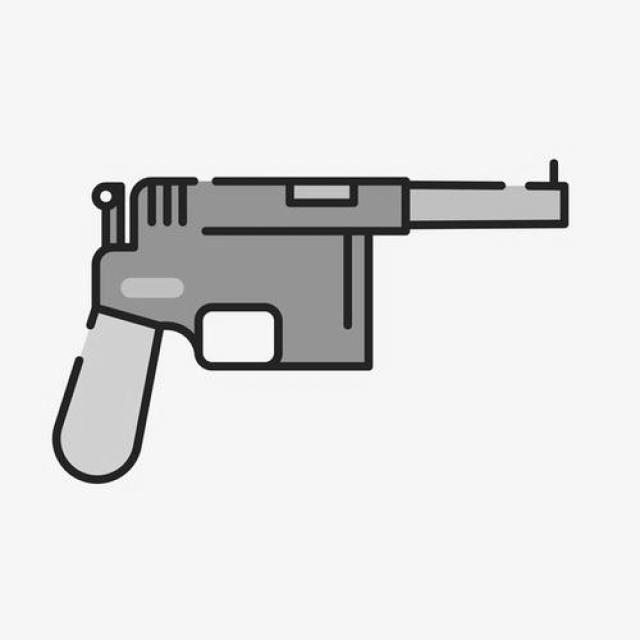gun: (51, 158, 570, 482)
